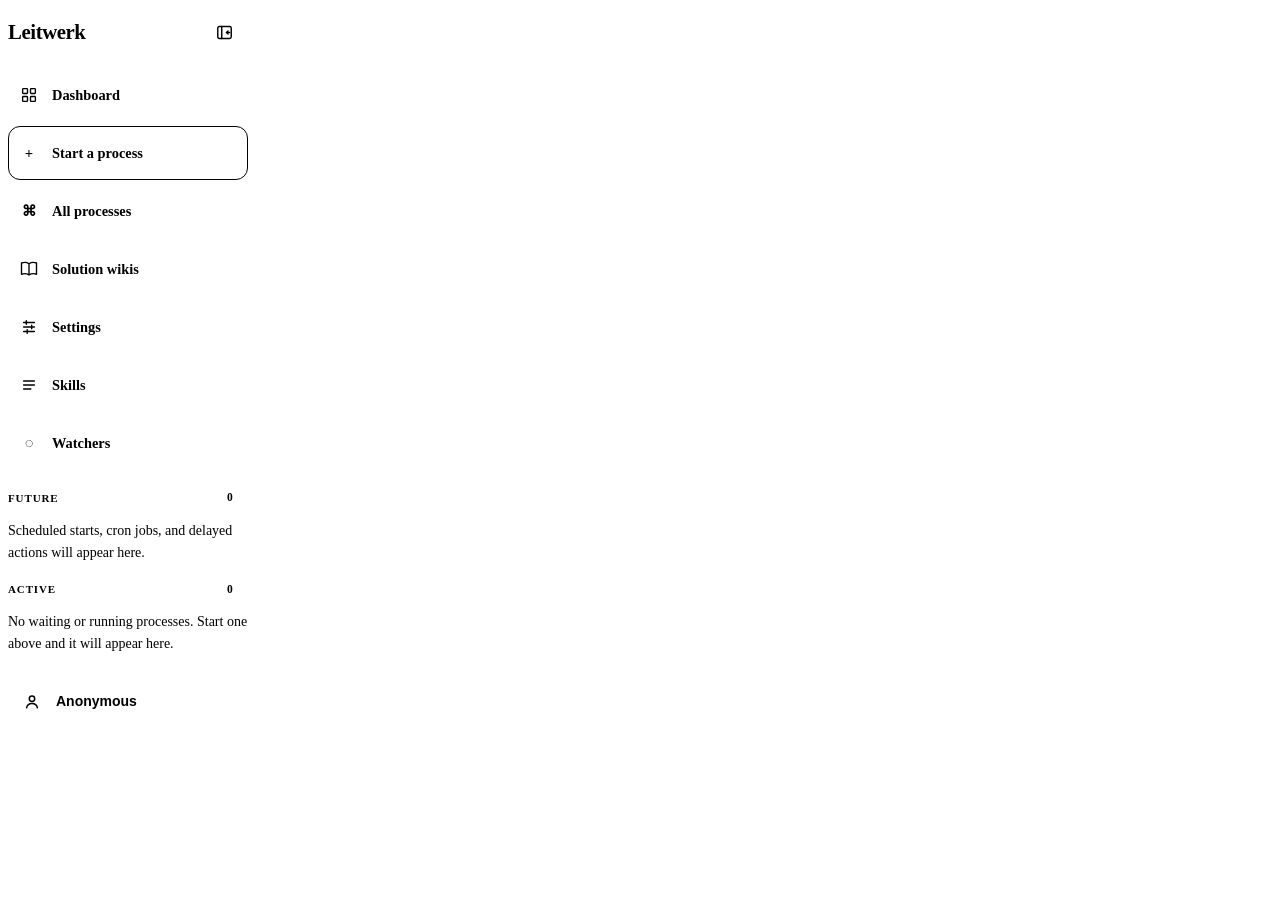
Test case: Sidebar › shows the shared anonymous account with token management and no logout
Click the button "Anonymous" at (128, 702), box [8,681,248,723]
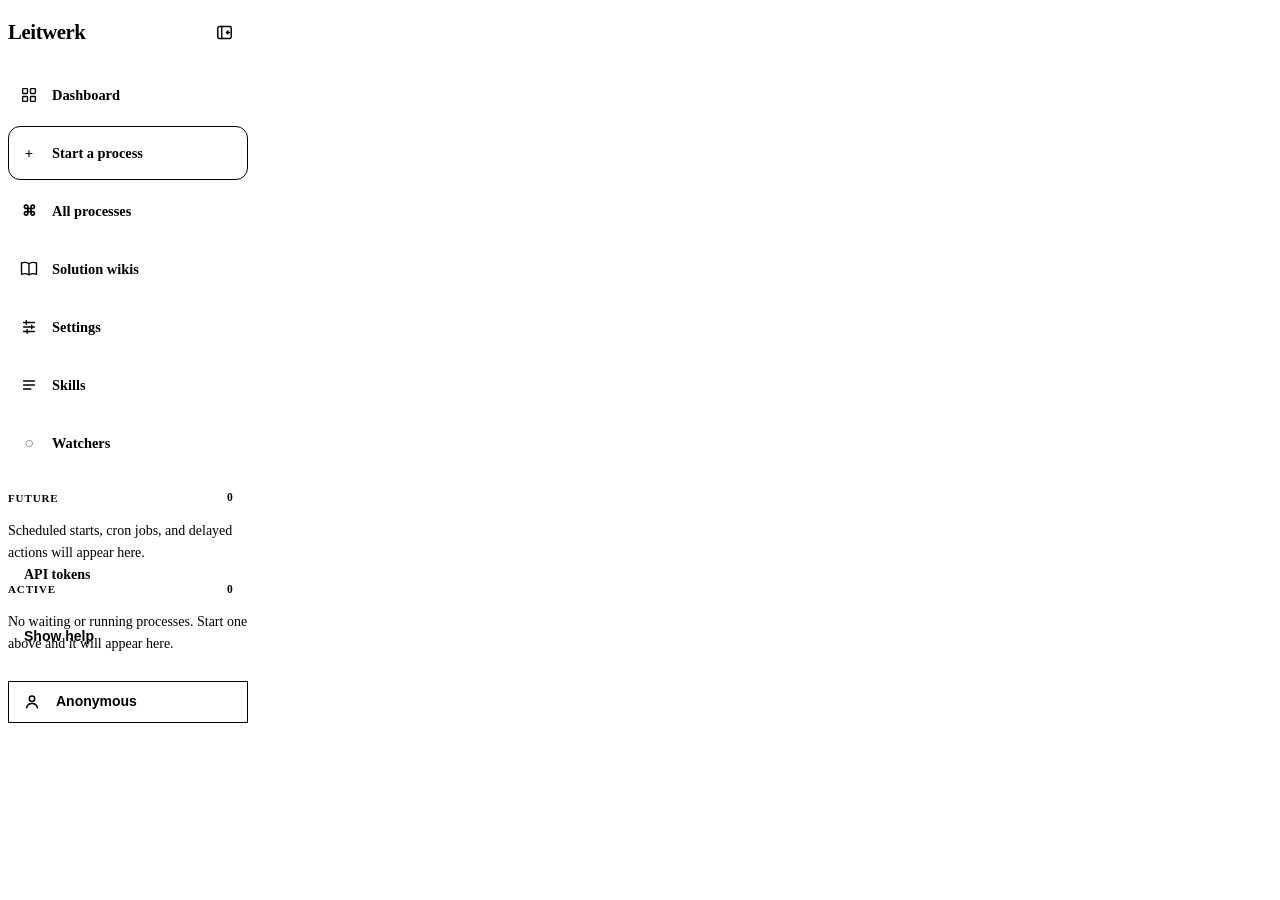
Expected: the link to "/account/api-tokens" is shown, [24,567,90,582]
